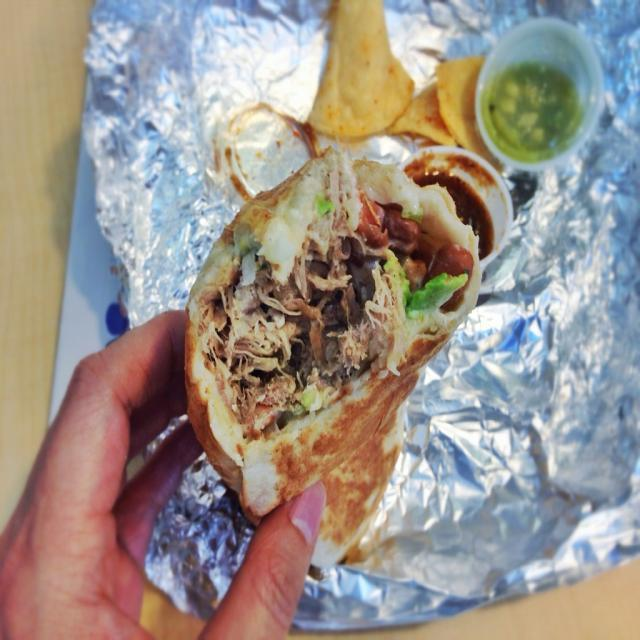Sandwich: (178, 144, 483, 575)
